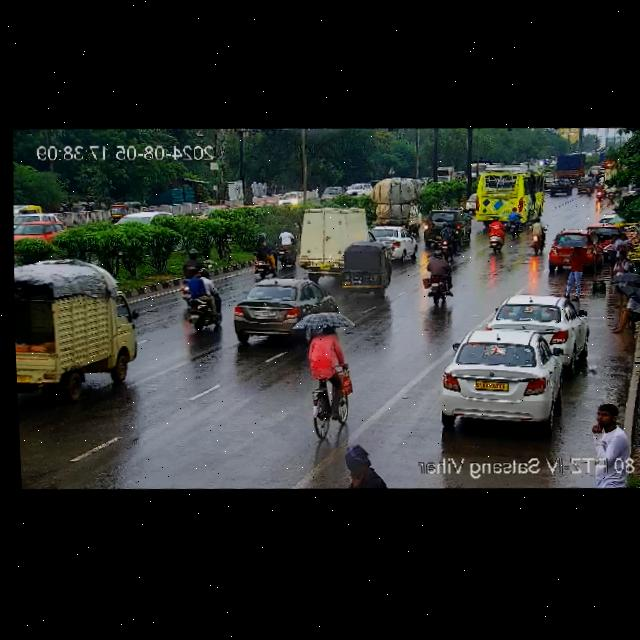bus: (463, 160, 549, 228)
car: (11, 250, 144, 377), (437, 325, 565, 429), (225, 275, 338, 345), (487, 291, 583, 357), (337, 235, 399, 297), (546, 226, 606, 276), (419, 205, 474, 255), (368, 221, 419, 265), (13, 217, 65, 242), (106, 200, 142, 223), (546, 176, 575, 202), (13, 204, 43, 218)
motorcycle: (302, 318, 355, 429), (176, 265, 227, 332), (175, 247, 220, 310), (419, 255, 458, 309), (244, 230, 284, 276), (426, 222, 464, 260), (272, 224, 297, 269), (525, 214, 548, 257), (482, 215, 505, 252), (503, 210, 523, 236), (593, 177, 606, 202), (582, 178, 594, 195)
person: (599, 231, 633, 312), (604, 271, 640, 345), (585, 401, 632, 456), (559, 236, 592, 300)
truck: (295, 203, 367, 275), (552, 151, 587, 181)
